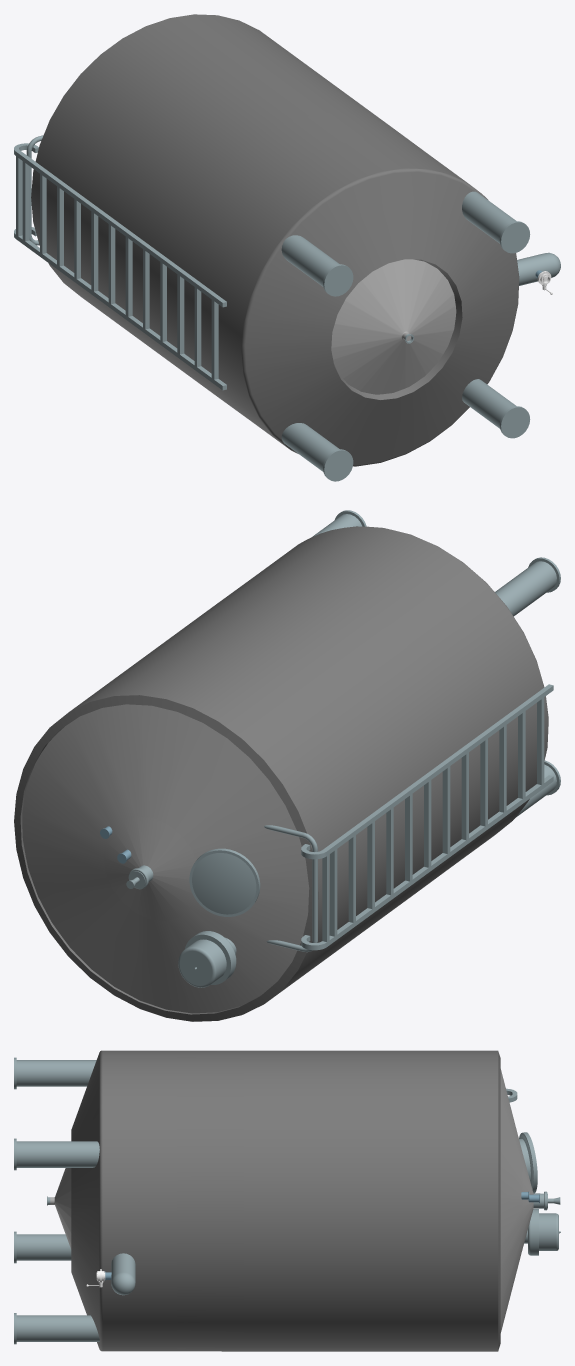
Rendered from pot.fbx.
3 views of the same model, one above another, from view 1: azimuth 30°, elevation 25°; view 2: azimuth 150°, elevation 25°; view 3: azimuth 270°, elevation 25° (orthographic). The views are drawn at different scales.
Parts seen in each view (by area): view 1: CIP罐20T (×16); view 2: CIP罐20T (×21); view 3: CIP罐20T (×9).
Boxes of the visible parts, x1=… form: CIP罐20T (×16): x1=14, y1=14, x2=560, y2=481; CIP罐20T (×21): x1=14, y1=526, x2=560, y2=1021; CIP罐20T (×9): x1=14, y1=1050, x2=560, y2=1351.
Bounding box in the file's own units: 135 × 110 × 200.
